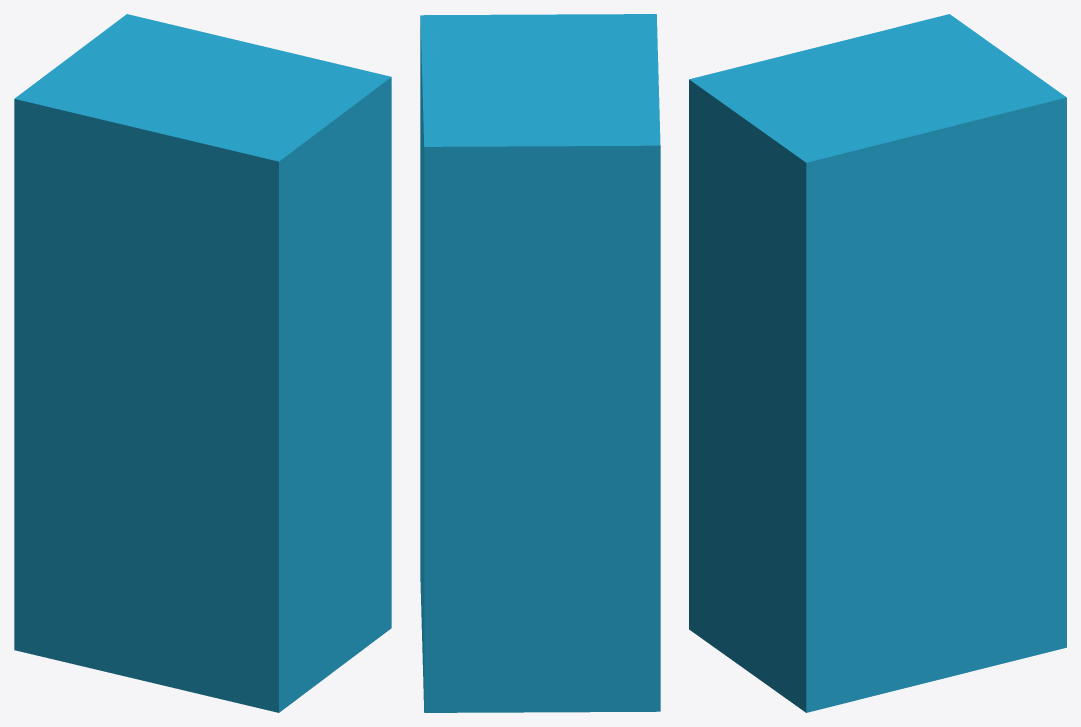
3 renders of one model, left to right at view 1: azimuth 30°, elevation 25°; view 2: azimuth 150°, elevation 25°; view 3: azimuth 270°, elevation 25°, orthographic. The views are drawn at different scales.
Parts seen in each view (by area): view 1: Visual_Cube; view 2: Visual_Cube; view 3: Visual_Cube.
Boxes of the visible parts, x1=… form: Visual_Cube: x1=14, y1=14, x2=391, y2=712; Visual_Cube: x1=420, y1=14, x2=660, y2=712; Visual_Cube: x1=689, y1=14, x2=1066, y2=712.
Size of the model in its own units: 44.14 by 76.08 by 47.35.
